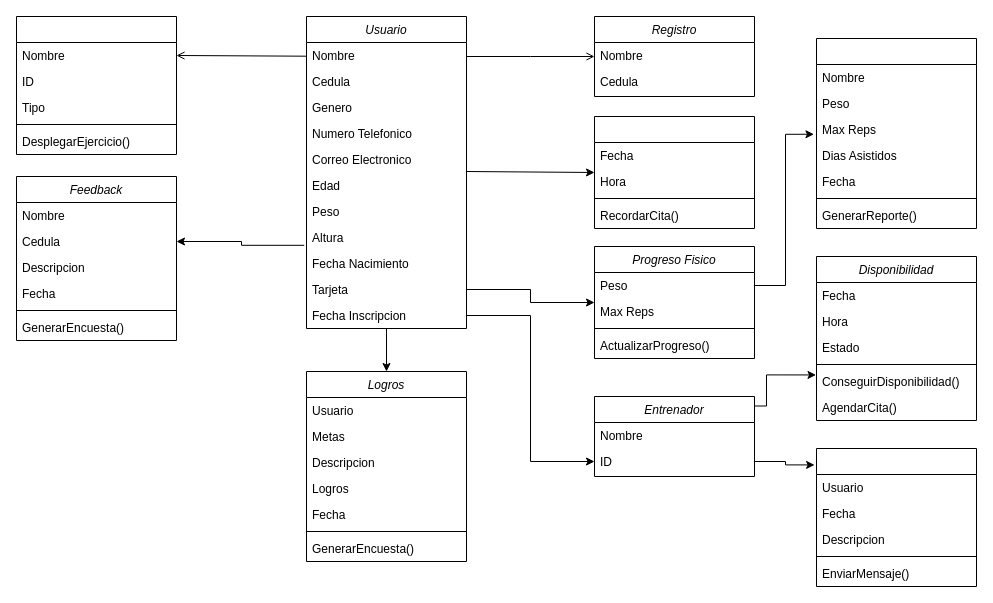
Some shapes in this 993 by 603 pixel diagram are drawn without their labels. The shapes that lost their labels are listed below. From the top down, each one's box as (x1, y1, x2, y2) in pixels, then its label:
(16, 16, 176, 154): Ejercicios
(816, 38, 976, 228): Reporte Progreso
(594, 116, 754, 228): Recordatorio Citas
(816, 448, 976, 586): Contacto
